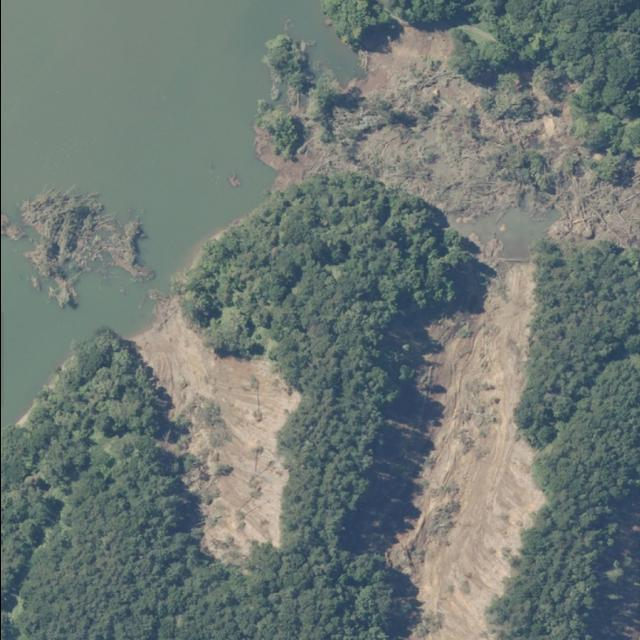landslide: (256, 0, 639, 640), (389, 262, 545, 640), (133, 299, 298, 564)
